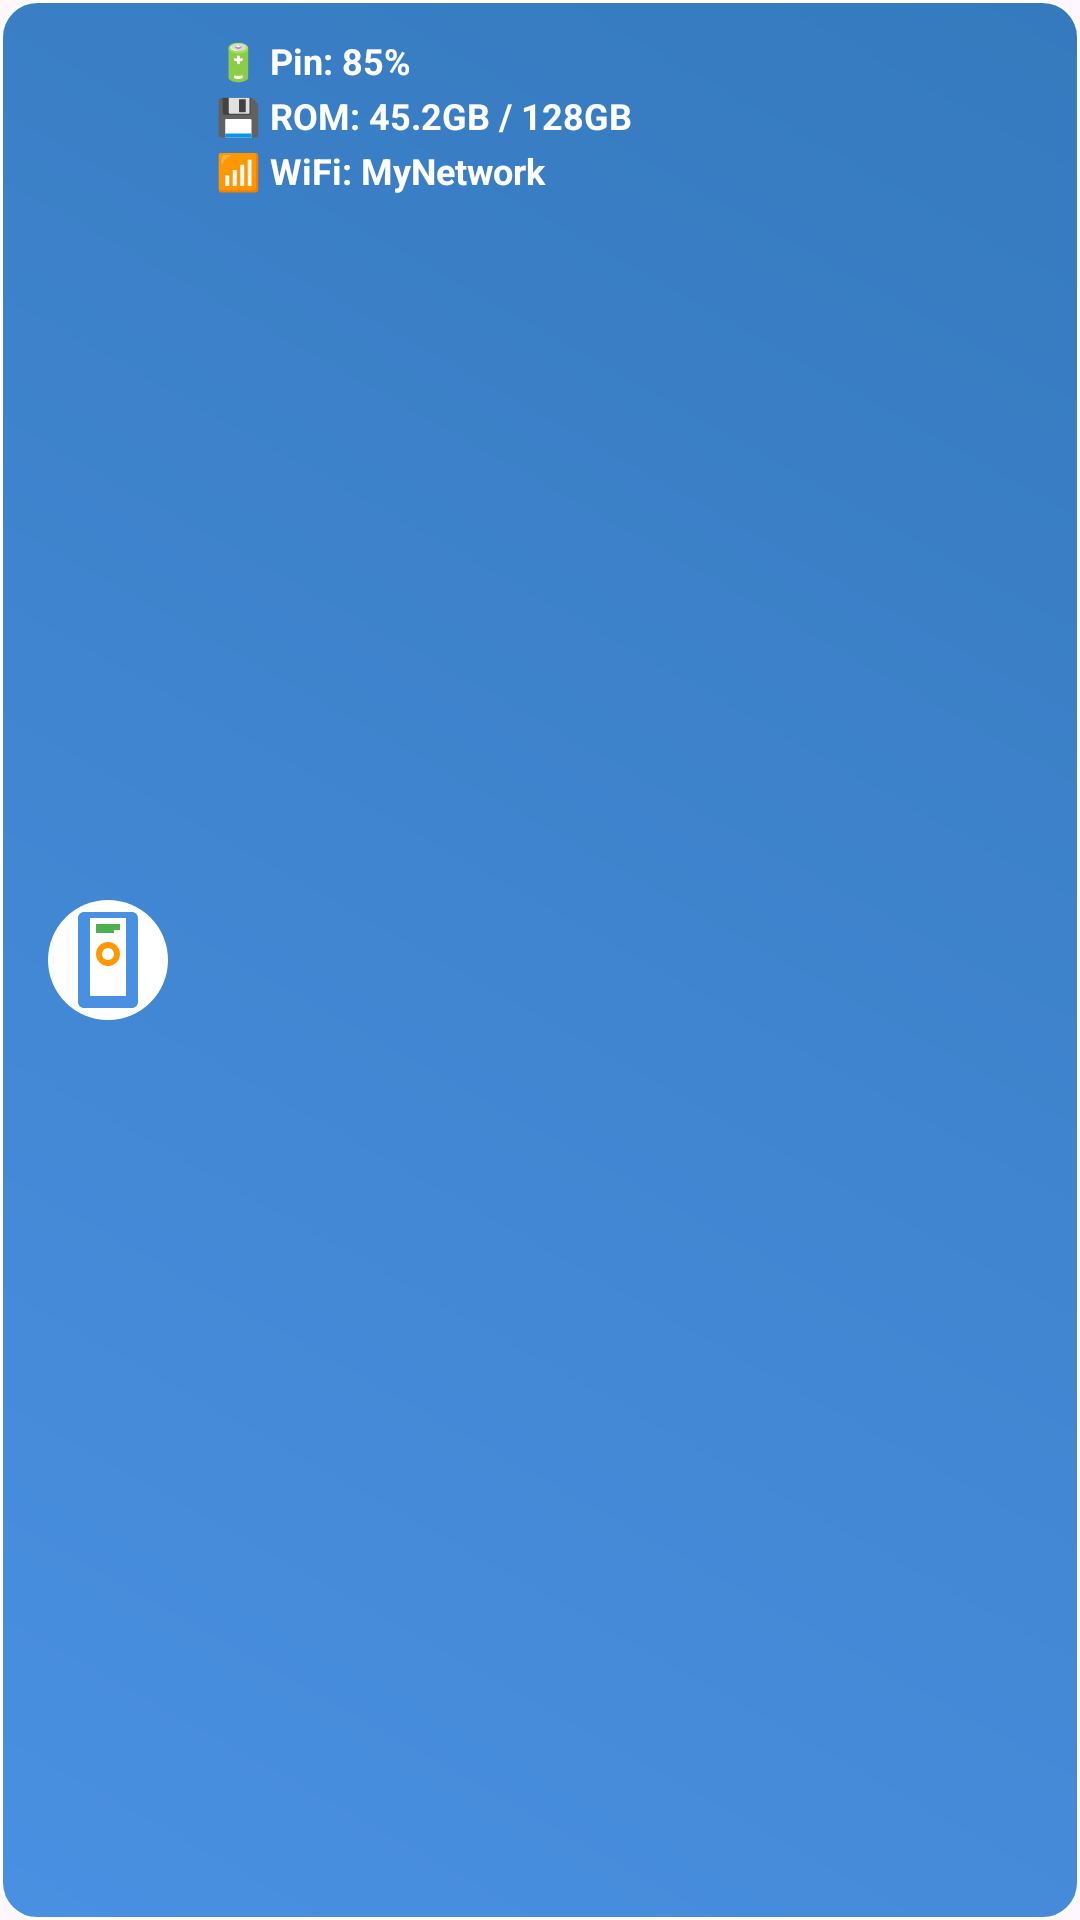

Named icons in this screenshot (1080 × 1920) and their centers, [x,y]:
Widget Image: [108,960]
